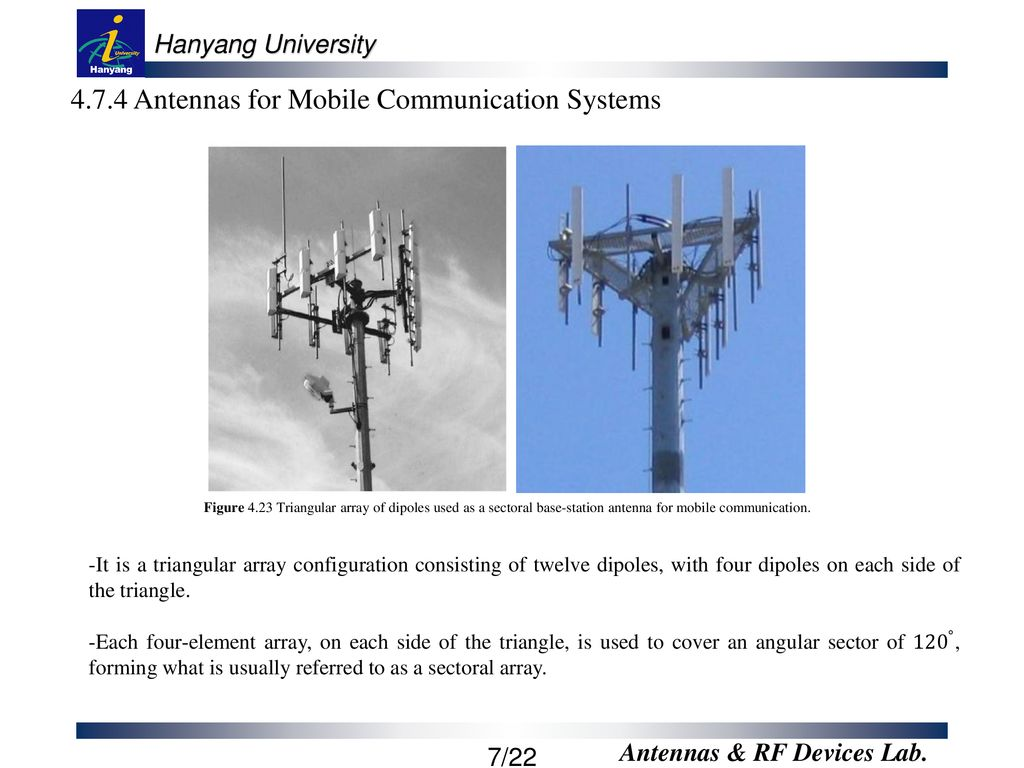sa: (700, 160, 747, 291), (553, 170, 598, 303), (260, 257, 299, 352), (667, 171, 696, 294)
